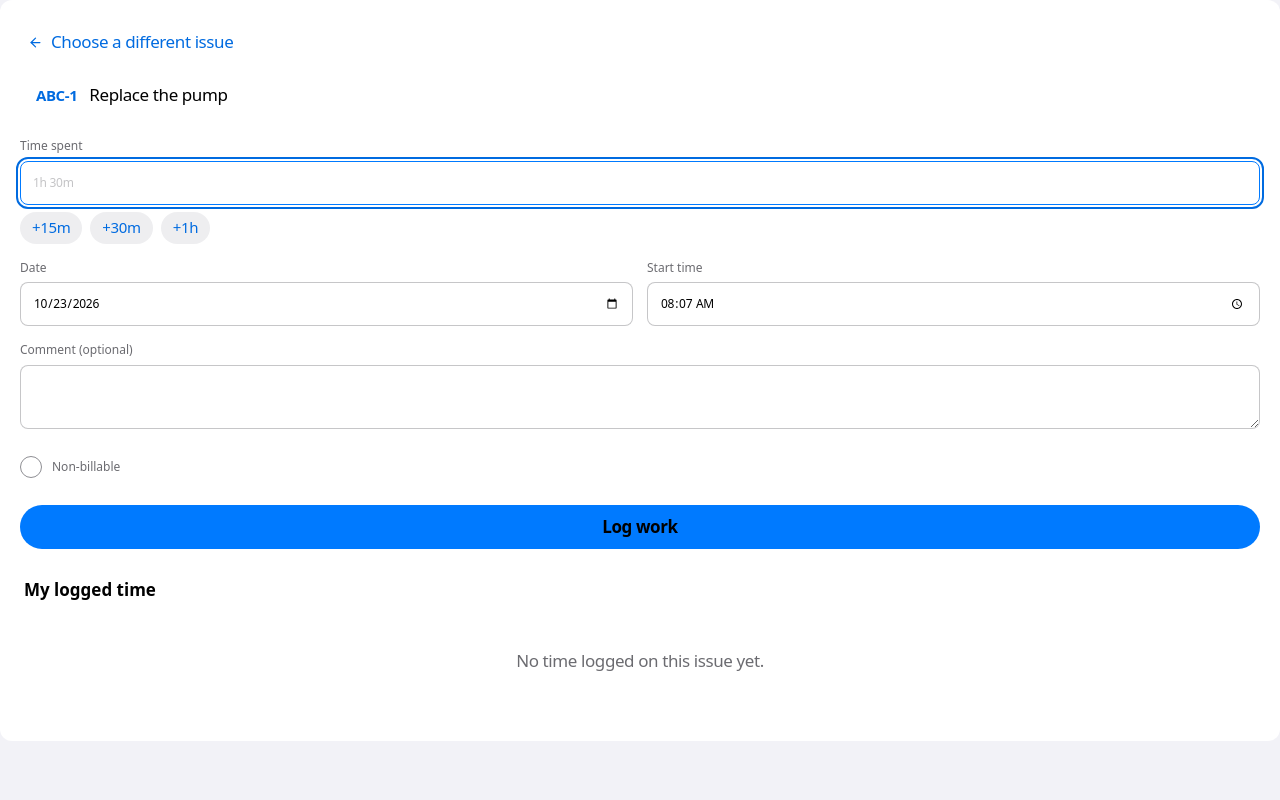
Test: logging › sends the draft and says what was logged
In the field labelled "Time spent": {"x": 640, "y": 182} [20,160,1260,204], type "2h"
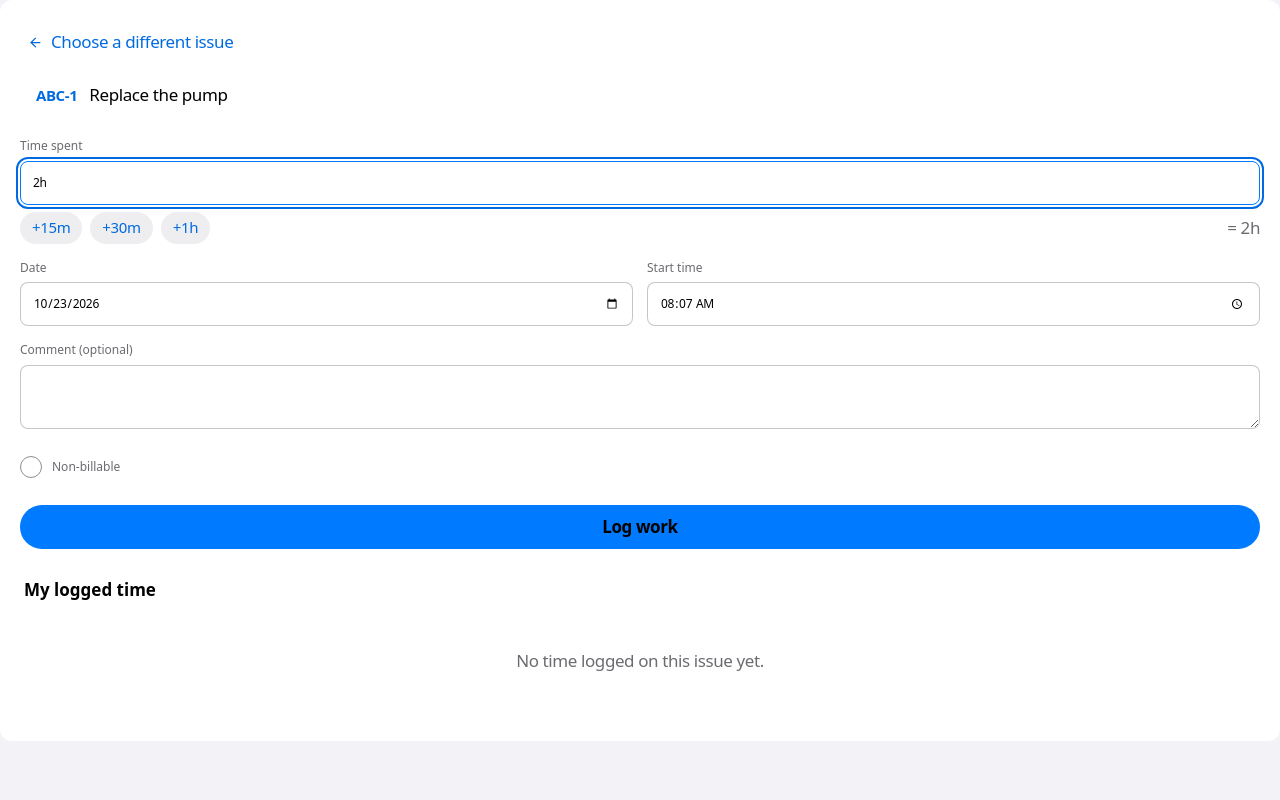
Click the button "Log work": {"x": 640, "y": 527} [20,505,1260,549]
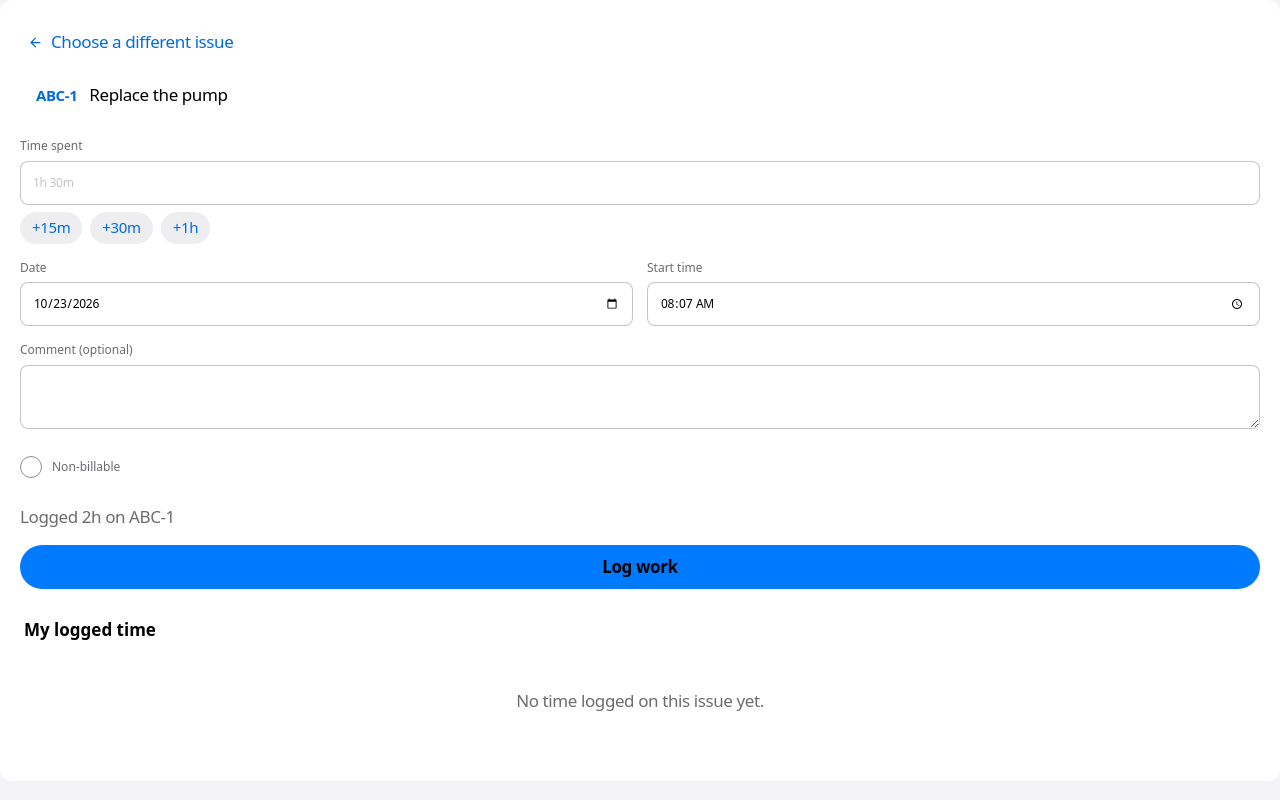
Expected: the text "Logged 2h on ABC-1" is shown, [20,505,175,528]
